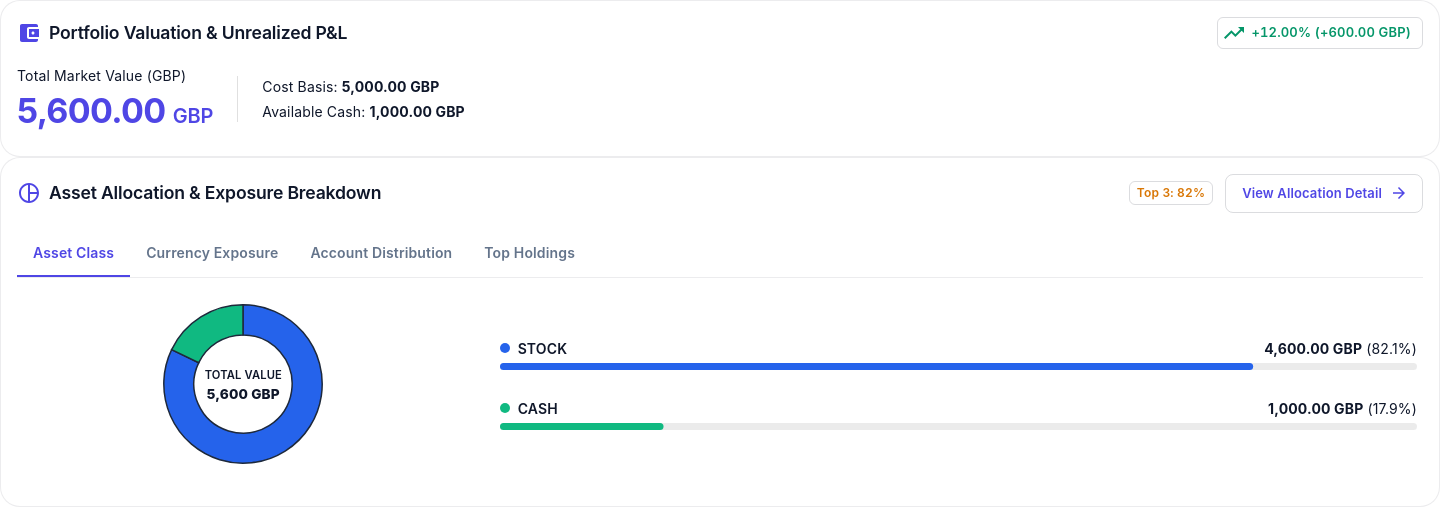
Feature Pages › renders ValuationMetricsCard and AssetAllocationCard
Check: the heading "Portfolio Valuation & Unrealized P&L" is shown, box top-left (49, 19), bottom-right (347, 47)
Check: the heading "5,600.00 GBP" is shown, box top-left (17, 90), bottom-right (213, 132)
Click the tab "Top Holdings".
click(530, 253)  # box top-left (468, 229), bottom-right (591, 277)
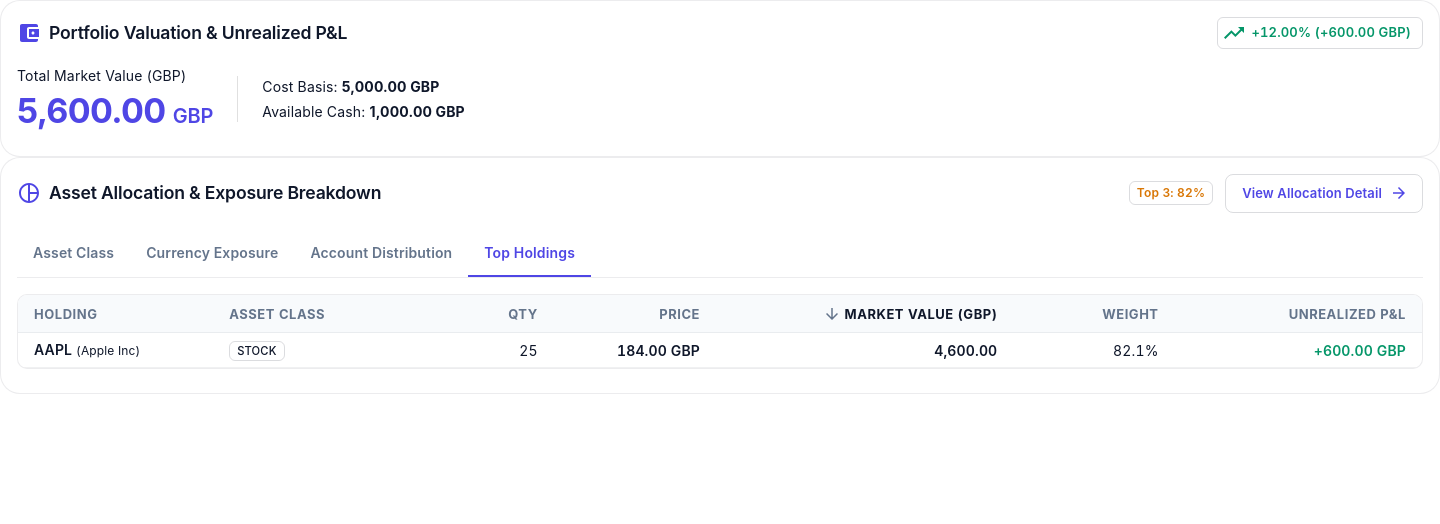
Check: the text "82.1%" is shown, box top-left (1013, 333), bottom-right (1175, 368)
Check: the text "AAPL" is shown, box top-left (34, 341), bottom-right (72, 358)
